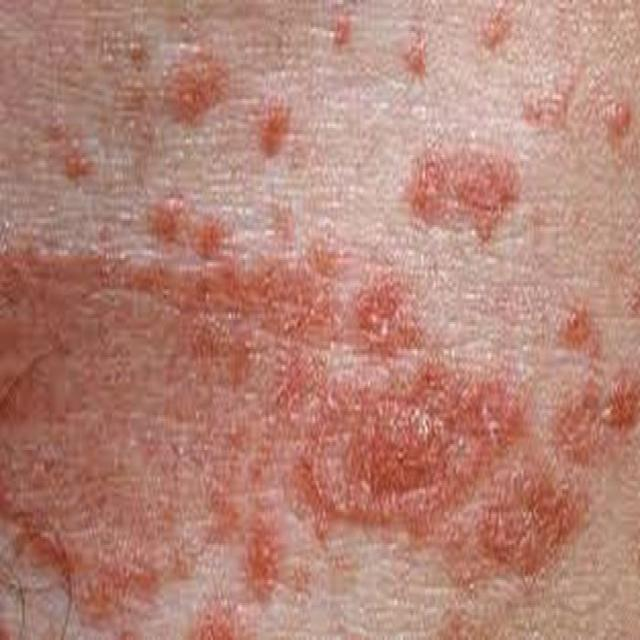Rosacea: (0, 8, 629, 632)
